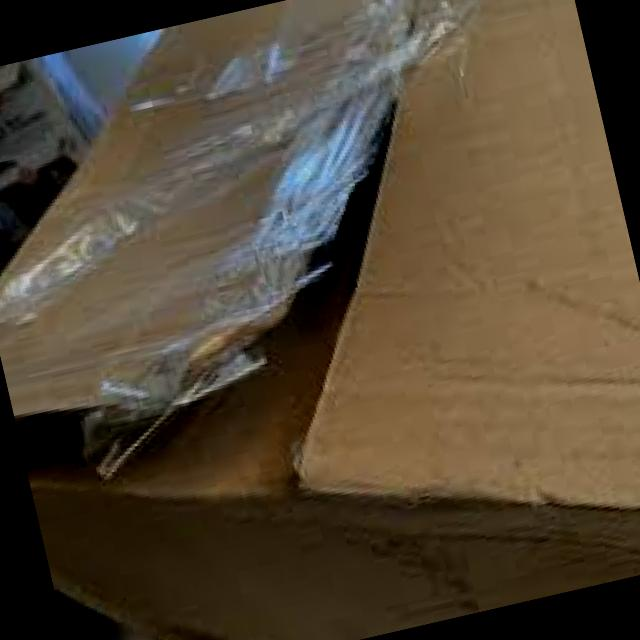package_damage: (5, 7, 410, 541)
